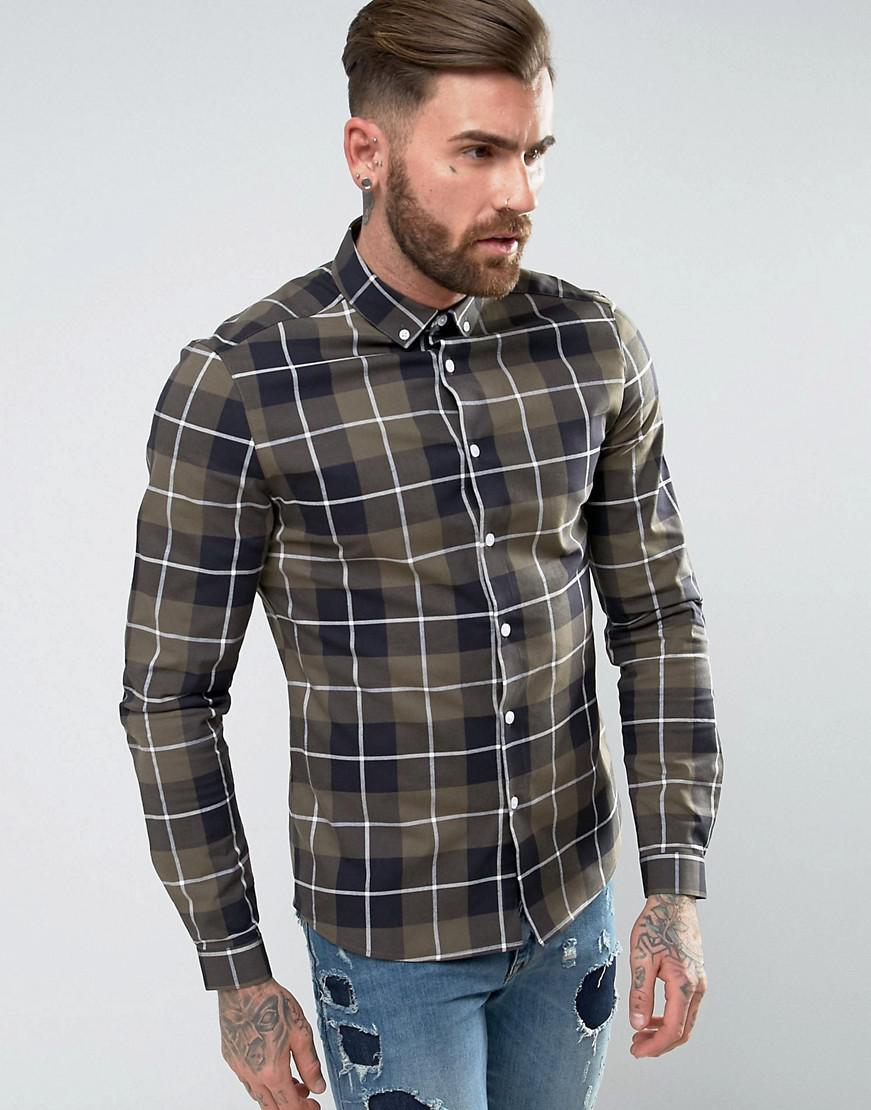teeshirt: (93, 205, 720, 952)
